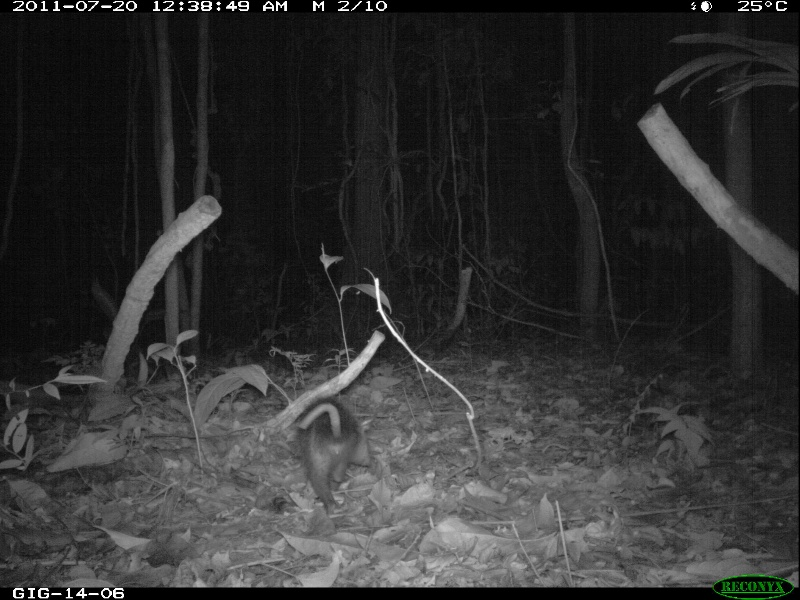opossum: (294, 396, 371, 503)
